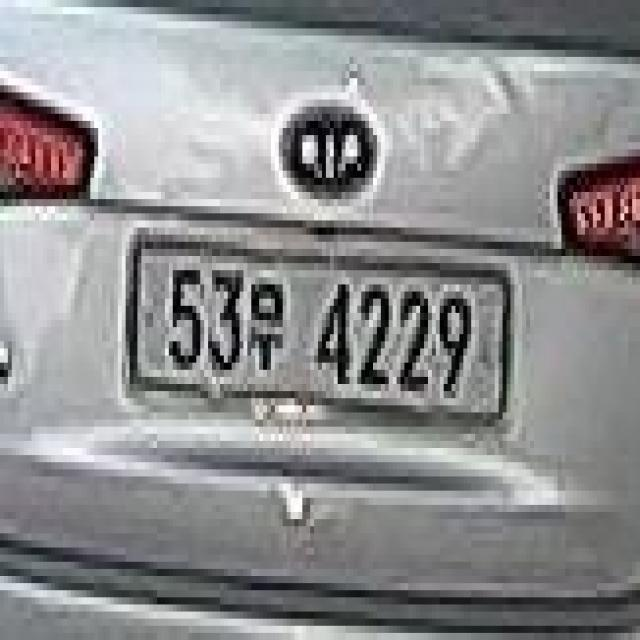2: (356, 280, 392, 394), (396, 288, 434, 392)
3: (208, 263, 246, 373)
4: (312, 283, 353, 391)
5: (164, 260, 206, 377)
9: (438, 288, 472, 399)
license_plate: (121, 217, 520, 455)
mu: (250, 276, 284, 380)
